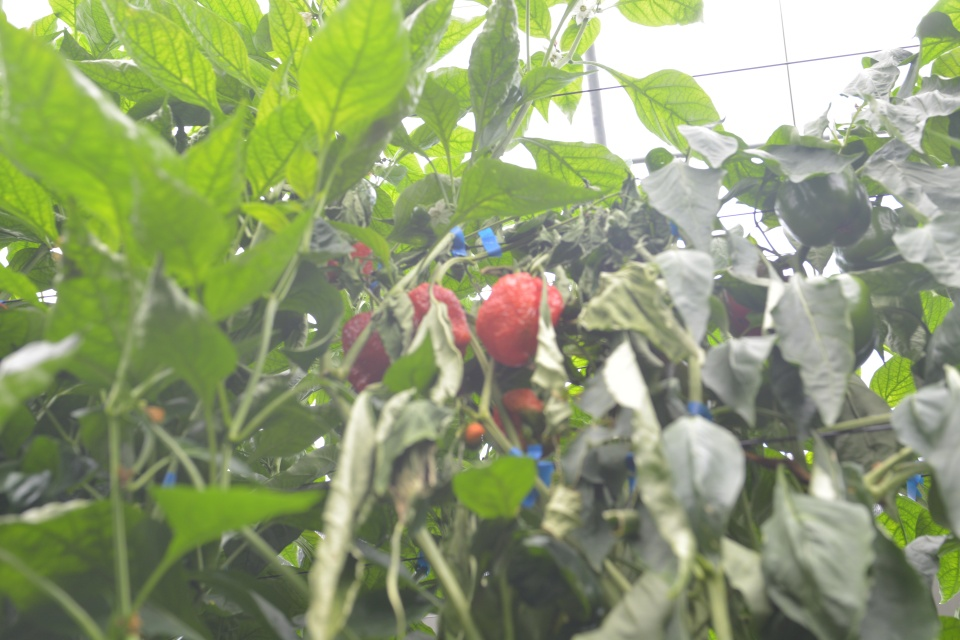flower: (542, 42, 571, 68), (571, 0, 599, 26), (300, 11, 314, 28)
fruit: (340, 280, 473, 396), (474, 269, 569, 370), (772, 160, 874, 252), (825, 271, 880, 375), (491, 384, 552, 457), (325, 239, 374, 282)
